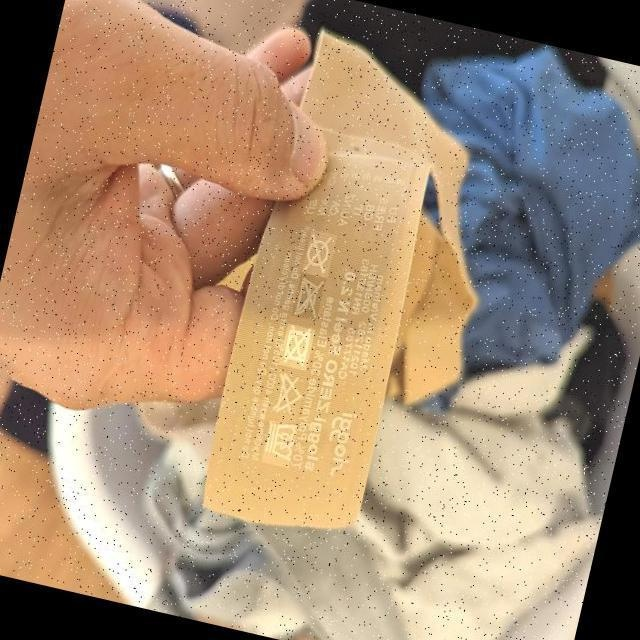40C: (264, 421, 295, 463)
DN_bleach: (274, 373, 301, 415)
DN_dry_clean: (304, 235, 331, 276)
DN_iron: (295, 279, 322, 321)
DN_tumble_dry: (283, 326, 309, 368)
